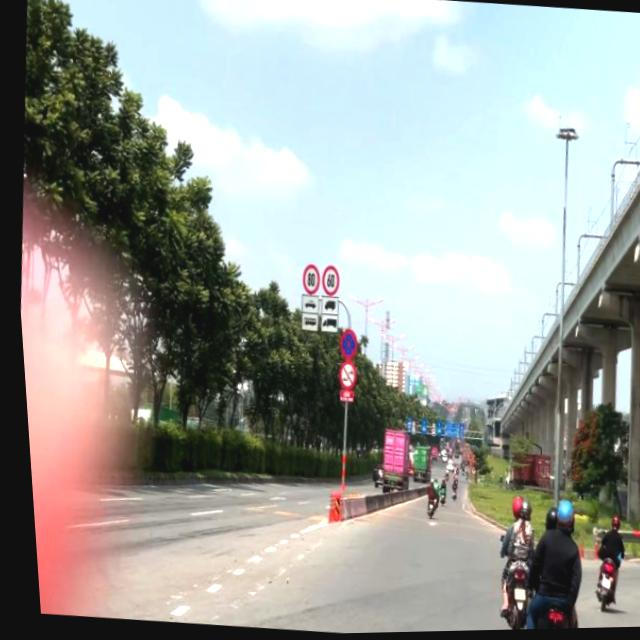Cam dung xe va do xe: (332, 328, 355, 363)
Toc do toi da cho phep: (296, 263, 318, 297), (315, 265, 338, 297)
